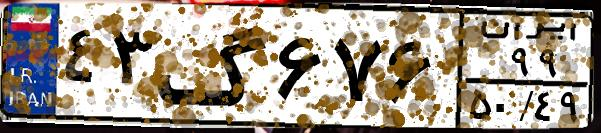0: (495, 70, 520, 125)
3: (110, 28, 156, 98)
4: (57, 26, 110, 100), (535, 70, 560, 125)
5: (470, 70, 495, 125)
6: (270, 28, 330, 110), (385, 28, 445, 110)
7: (330, 28, 385, 110)
9: (560, 70, 590, 125), (537, 27, 568, 80), (508, 27, 537, 80)
گ: (156, 12, 270, 120)
